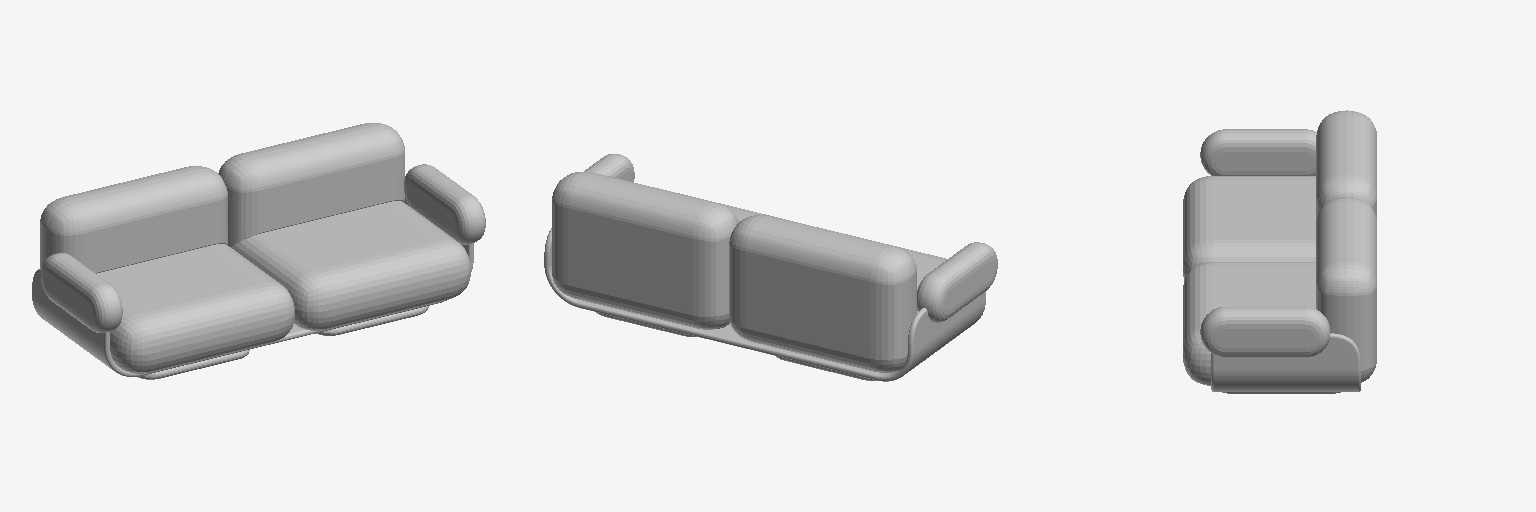
Rendered from Cannoli sofa.obj.
3 renders of one model, left to right at view 1: azimuth 30°, elevation 25°; view 2: azimuth 150°, elevation 25°; view 3: azimuth 270°, elevation 25°, orthographic.
Parts seen in each view (by area): view 1: Box010, Box009, Box008, Box007, Line010, Line011, Line009, Body2_005, Body2_006; view 2: Box007, Box008, Line009, Line010, Line011, Box009; view 3: Box009, Box008, Box010, Line011, Line009, Box007, Line010.
Boxes of the visible parts, x1=… form: Box010: x1=231, y1=201, x2=470, y2=330; Box009: x1=97, y1=244, x2=294, y2=373; Box008: x1=218, y1=123, x2=404, y2=246; Box007: x1=40, y1=166, x2=227, y2=273; Line010: x1=41, y1=253, x2=122, y2=332; Line011: x1=404, y1=164, x2=485, y2=244; Line009: x1=32, y1=197, x2=473, y2=376; Body2_005: x1=138, y1=350, x2=249, y2=379; Body2_006: x1=316, y1=306, x2=428, y2=335; Box007: x1=729, y1=215, x2=916, y2=372; Box008: x1=552, y1=172, x2=738, y2=329; Line009: x1=544, y1=228, x2=985, y2=381; Line010: x1=917, y1=242, x2=997, y2=322; Line011: x1=584, y1=154, x2=634, y2=181; Box009: x1=847, y1=234, x2=947, y2=312; Box009: x1=1183, y1=176, x2=1315, y2=280; Box008: x1=1316, y1=197, x2=1376, y2=382; Box010: x1=1183, y1=262, x2=1315, y2=385; Line011: x1=1200, y1=307, x2=1330, y2=357; Line009: x1=1211, y1=333, x2=1360, y2=391; Box007: x1=1316, y1=110, x2=1376, y2=220; Line010: x1=1200, y1=129, x2=1316, y2=175.
Bounding box in the file's own units: 2179 × 728 × 943.